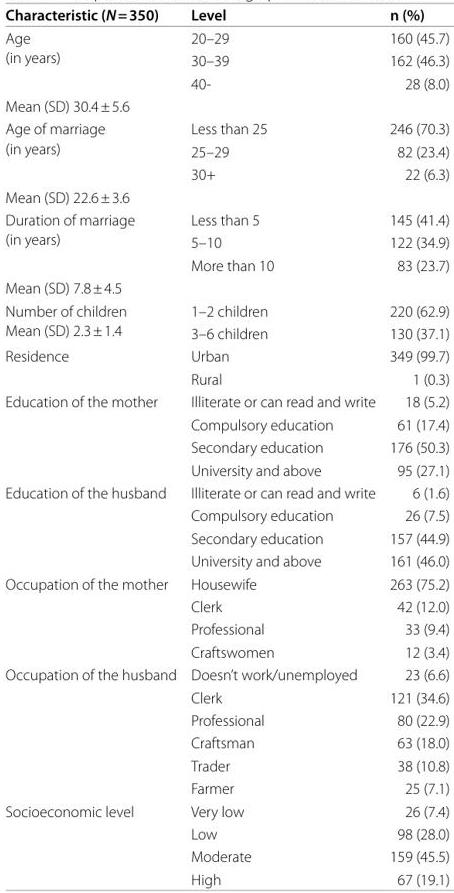table: (4, 4, 449, 888)
table column: (183, 4, 382, 888), (4, 4, 183, 888), (382, 4, 449, 888)
table column header: (4, 4, 449, 26)
table projected row header: (4, 94, 449, 117), (4, 185, 449, 208), (4, 276, 449, 299)
table row: (4, 26, 449, 49), (4, 71, 449, 94), (4, 94, 449, 117), (4, 117, 449, 140), (4, 162, 449, 185), (4, 185, 449, 208), (4, 208, 449, 231), (4, 253, 449, 276), (4, 276, 449, 299), (4, 299, 449, 322), (4, 344, 449, 367), (4, 367, 449, 390), (4, 390, 449, 413), (4, 435, 449, 458), (4, 458, 449, 481), (4, 481, 449, 504), (4, 526, 449, 549), (4, 549, 449, 572), (4, 594, 449, 617), (4, 617, 449, 640), (4, 640, 449, 663), (4, 685, 449, 708), (4, 708, 449, 731), (4, 731, 449, 754), (4, 776, 449, 799), (4, 799, 449, 822), (4, 822, 449, 845), (4, 4, 449, 26), (4, 49, 449, 71), (4, 140, 449, 162), (4, 231, 449, 253), (4, 322, 449, 344), (4, 413, 449, 435), (4, 504, 449, 526), (4, 572, 449, 594), (4, 663, 449, 685), (4, 754, 449, 776), (4, 845, 449, 867), (4, 867, 449, 888)
table spanning cell: (4, 663, 183, 799), (4, 390, 183, 481), (4, 481, 183, 572), (4, 572, 183, 663), (4, 799, 183, 888), (4, 26, 183, 94), (4, 117, 183, 185), (4, 208, 183, 276), (4, 344, 183, 390), (4, 299, 183, 344)
